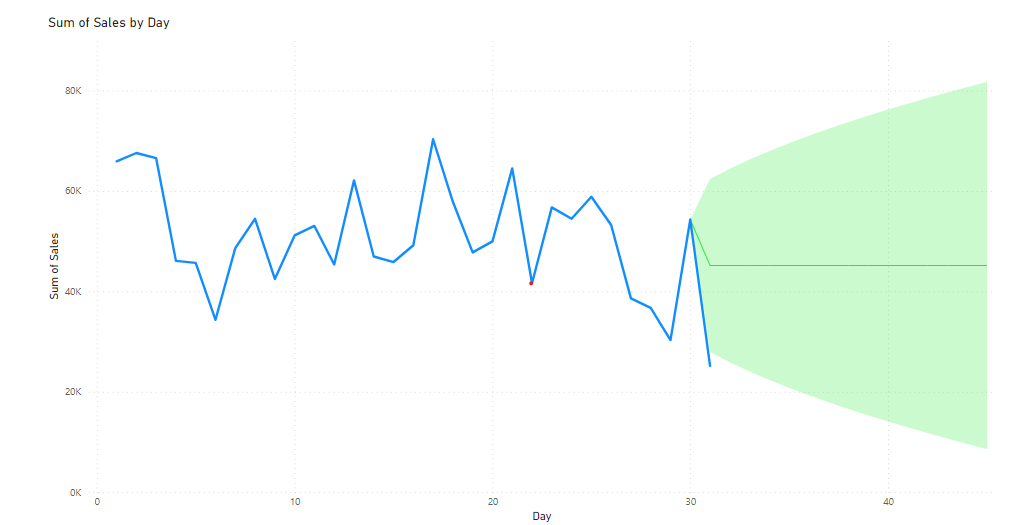

Layout of this report page (visuals, bound fields, positions):
{"tool":"powerbi","page":{"name":"Sales Forcasting","canvas":[1280,720],"ordinal":1},"visuals":[{"type":"lineChart","fields":{"Y":["Sum(SuperStore_Sales_Dataset.Sales)"],"Category":["SuperStore_Sales_Dataset.Order Date.Variation.Date Hierarchy.Day"]},"box":[56.2,23,1193.8,640.8],"z":0}]}

Visuals, with their boxes on the page's 1280x720 design canvas (x1, y1, x2, y2). These are canvas units, not pixel positions in the 1015x525 screenshot, which may show the page scaled, cropped or inside an application window:
lineChart - Sum(SuperStore_Sales_Dataset.Sales) x SuperStore_Sales_Dataset.Order Date.Variation.Date Hierarchy.Day: l=56, t=23, r=1250, b=664
